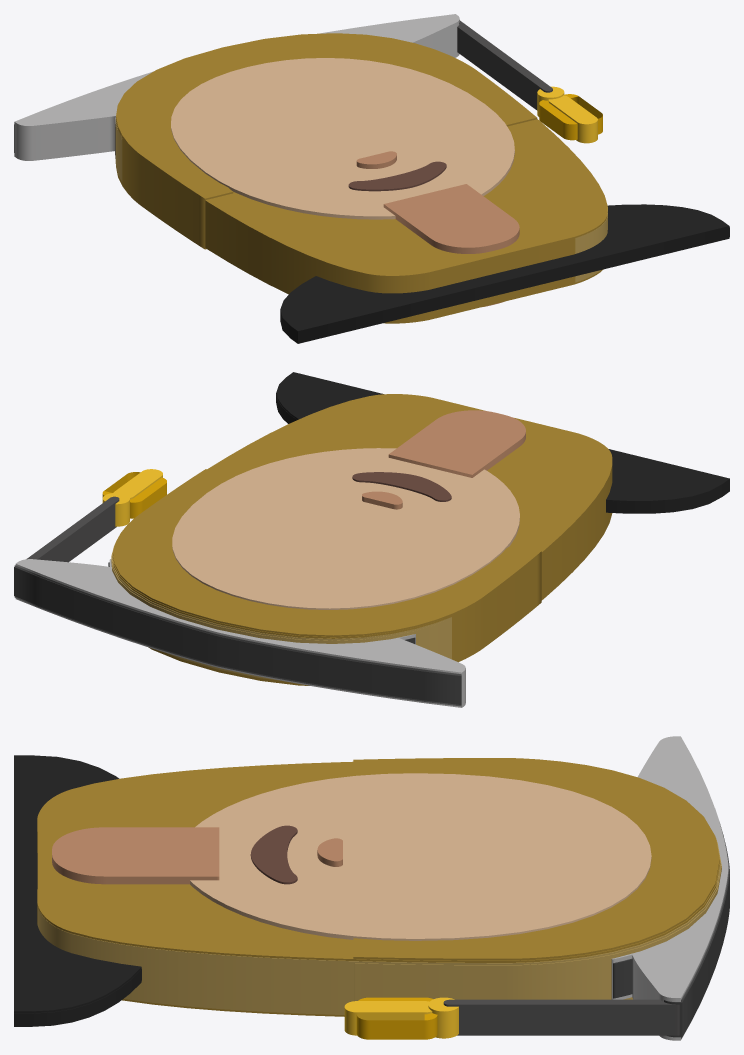
The model's file is emoji_u1f469_1f3fc_200d_1f393.glb.
3 views of the same model, one above another, from view 1: azimuth 30°, elevation 25°; view 2: azimuth 150°, elevation 25°; view 3: azimuth 270°, elevation 25° (orthographic). The views are drawn at different scales.
Parts seen in each view (by area): view 1: emoji_u1f469_1f3fc_200d_1f393; view 2: emoji_u1f469_1f3fc_200d_1f393; view 3: emoji_u1f469_1f3fc_200d_1f393.
Part boxes in pixels (x1,y1,x2,y2): emoji_u1f469_1f3fc_200d_1f393: [14, 14, 729, 343]; emoji_u1f469_1f3fc_200d_1f393: [14, 372, 729, 707]; emoji_u1f469_1f3fc_200d_1f393: [14, 736, 729, 1040].
Bounding box in the file's own units: 0.0302 × 0.004 × 0.0336.
